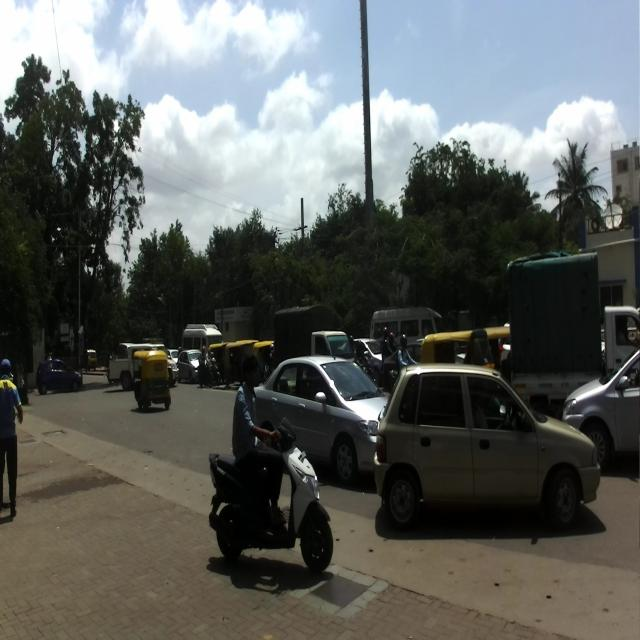Car_Honda: (250, 354, 392, 488)
Car_Maruti-Suzuki: (374, 361, 600, 527)
scooter: (208, 415, 335, 574)
